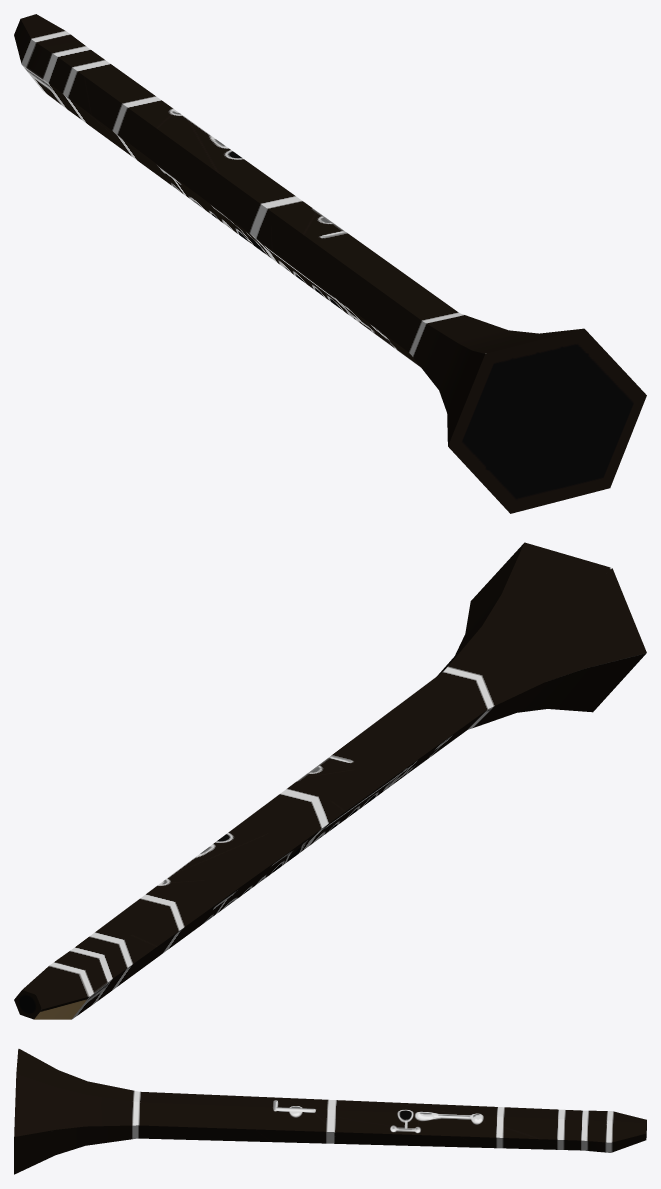
Rendered from flauta3_000007.obj.
The picture shows the model from 3 angles, top to bottom: view 1: azimuth 30°, elevation 25°; view 2: azimuth 150°, elevation 25°; view 3: azimuth 270°, elevation 25°; orthographic projection. The views are drawn at different scales.
Visible parts, largest first — view 1: f3_Flauta_3:Flauta_2:Flauta_1:pCylinder3; view 2: f3_Flauta_3:Flauta_2:Flauta_1:pCylinder3; view 3: f3_Flauta_3:Flauta_2:Flauta_1:pCylinder3.
Part boxes in pixels (x1=…): f3_Flauta_3:Flauta_2:Flauta_1:pCylinder3: x1=14, y1=14, x2=646, y2=513; f3_Flauta_3:Flauta_2:Flauta_1:pCylinder3: x1=14, y1=542, x2=646, y2=1019; f3_Flauta_3:Flauta_2:Flauta_1:pCylinder3: x1=14, y1=1048, x2=646, y2=1174.
Size of the model in its own units: 1.19 by 0.9731 by 5.81.
